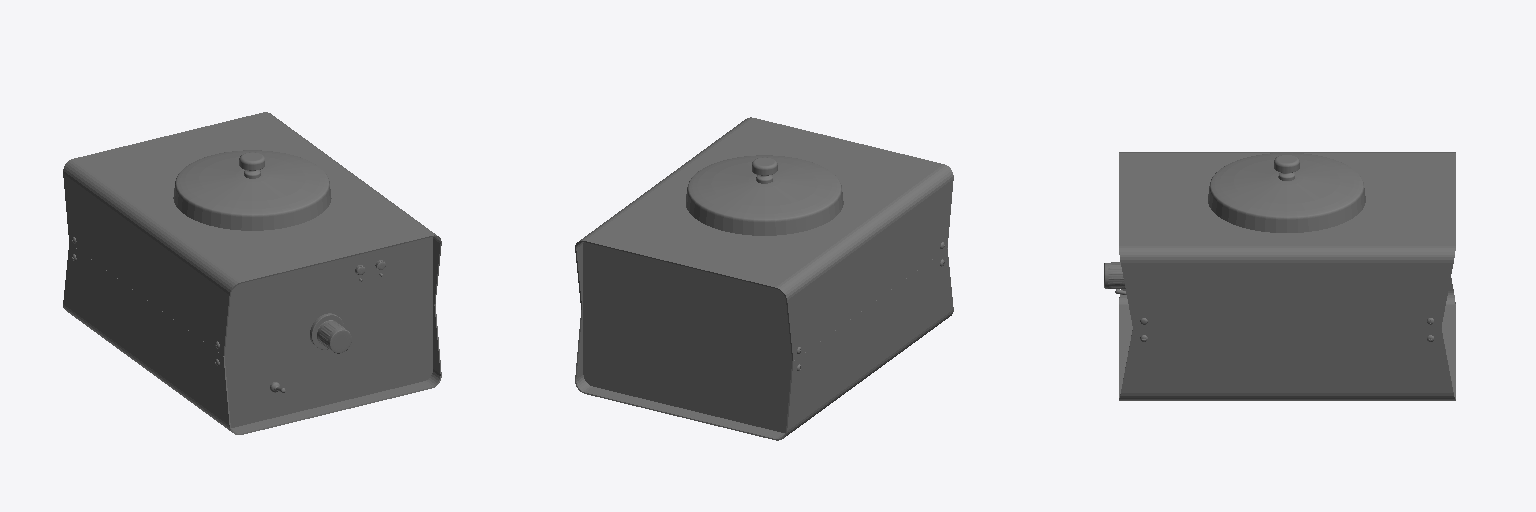
The picture shows the model from 3 angles: view 1: azimuth 30°, elevation 25°; view 2: azimuth 150°, elevation 25°; view 3: azimuth 270°, elevation 25°; orthographic projection.
Visible parts, largest first — view 1: archmodels_vol_90_039_4, archmodels_vol_90_039_2, archmodels_vol_90_039_5, archmodels_vol_90_039_3, archmodels_vol_90_039_6, archmodels_vol_90_039_21; view 2: archmodels_vol_90_039_4, archmodels_vol_90_039_2, archmodels_vol_90_039_5, archmodels_vol_90_039_3, archmodels_vol_90_039_21; view 3: archmodels_vol_90_039_4, archmodels_vol_90_039_5, archmodels_vol_90_039_3, archmodels_vol_90_039_21.
Part boxes in pixels (bbox=[...]): archmodels_vol_90_039_4: bbox=[63, 112, 441, 355]; archmodels_vol_90_039_2: bbox=[225, 237, 432, 427]; archmodels_vol_90_039_5: bbox=[63, 243, 441, 434]; archmodels_vol_90_039_3: bbox=[173, 150, 331, 230]; archmodels_vol_90_039_6: bbox=[310, 313, 351, 353]; archmodels_vol_90_039_21: bbox=[239, 152, 264, 178]; archmodels_vol_90_039_4: bbox=[575, 117, 953, 360]; archmodels_vol_90_039_2: bbox=[583, 242, 791, 432]; archmodels_vol_90_039_5: bbox=[575, 248, 953, 440]; archmodels_vol_90_039_3: bbox=[686, 155, 843, 235]; archmodels_vol_90_039_21: bbox=[752, 157, 777, 183]; archmodels_vol_90_039_4: bbox=[1119, 152, 1455, 327]; archmodels_vol_90_039_5: bbox=[1119, 278, 1455, 400]; archmodels_vol_90_039_3: bbox=[1208, 153, 1365, 232]; archmodels_vol_90_039_21: bbox=[1274, 155, 1299, 180].
Size of the model in its own units: 18.02 by 15.45 by 25.42.